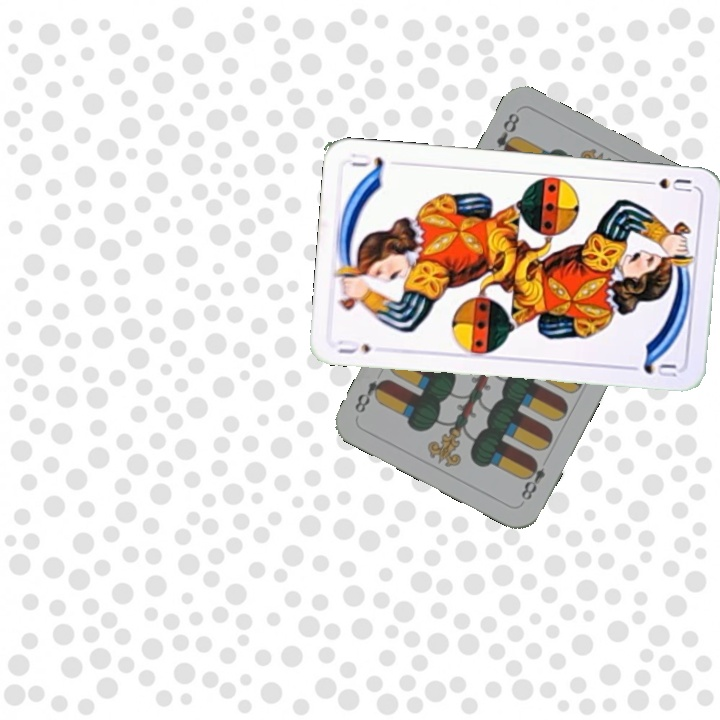E8: (492, 108, 523, 161), (516, 454, 548, 503)
SU: (637, 174, 695, 195), (333, 335, 374, 356)
